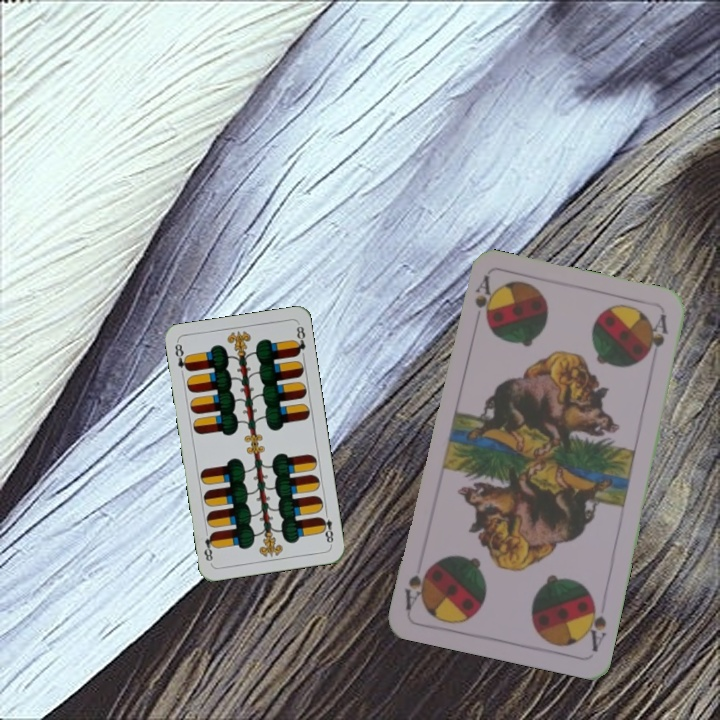E8: (316, 507, 336, 547), (171, 340, 192, 374)
SA: (580, 593, 609, 655), (471, 273, 493, 321)
